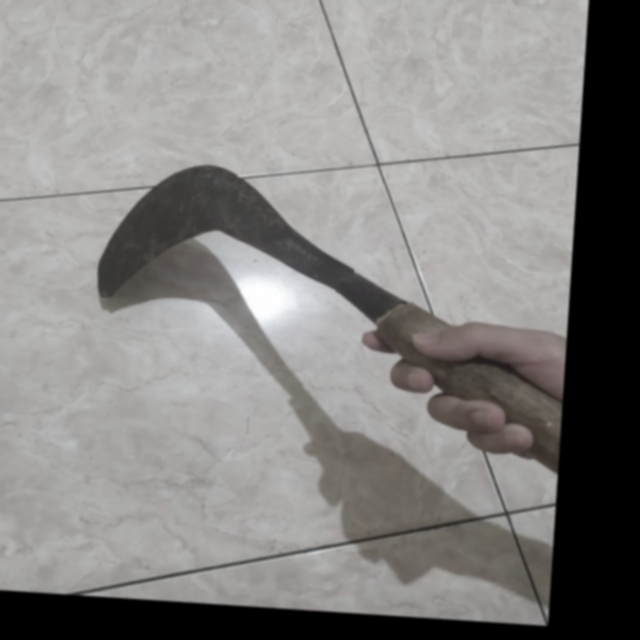Sharp-Object: (74, 145, 577, 500)
